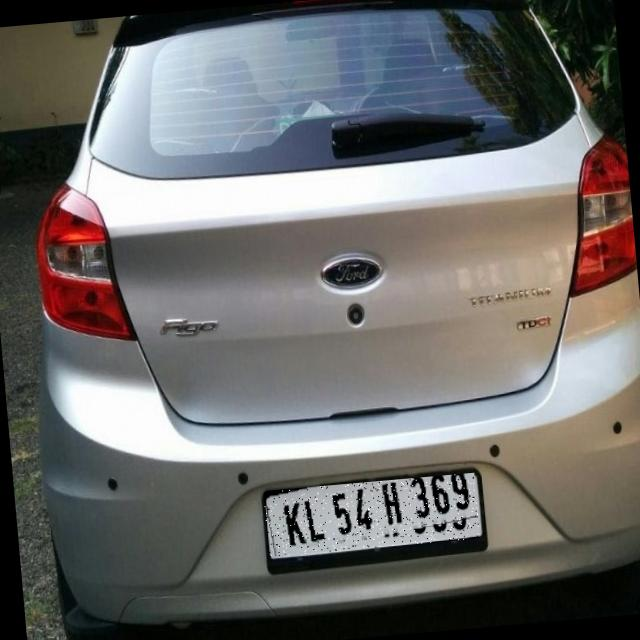Plate: (264, 474, 481, 558)
